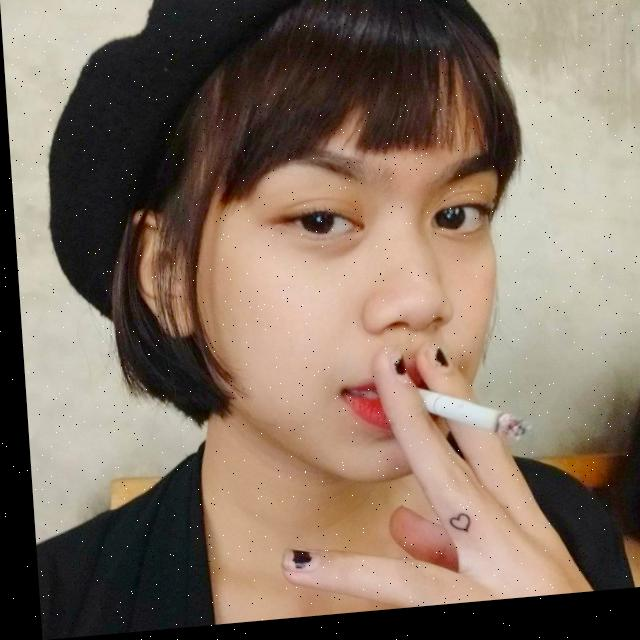cigarette: (412, 389, 525, 457)
